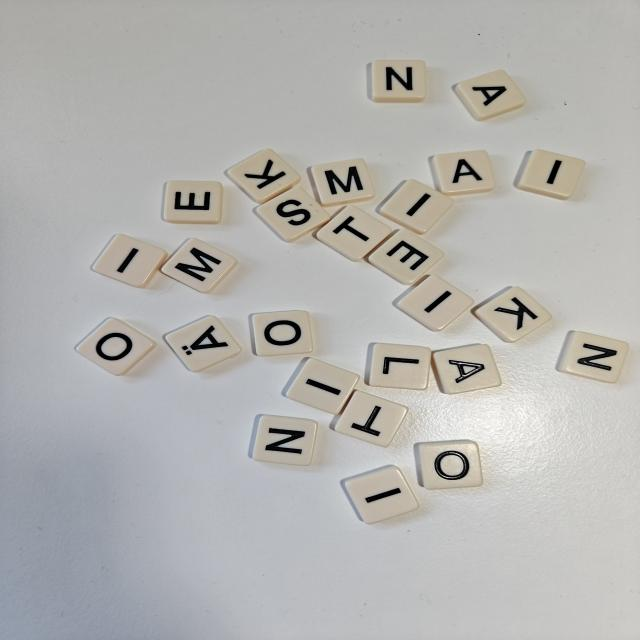a: (455, 70, 525, 120), (432, 345, 501, 395), (432, 150, 495, 196)
a_dot: (165, 316, 242, 372)
e: (368, 230, 444, 285), (164, 181, 223, 224)
i: (342, 465, 419, 524), (397, 275, 474, 331), (285, 358, 360, 414), (380, 179, 453, 234), (92, 234, 167, 287), (517, 150, 585, 199)
k: (474, 287, 551, 342), (228, 149, 300, 204)
l: (367, 343, 431, 390)
m: (161, 238, 237, 293), (311, 159, 375, 206)
n: (558, 331, 628, 383), (252, 415, 318, 466), (371, 60, 426, 102)
o: (76, 318, 156, 375), (418, 440, 483, 489), (252, 310, 313, 356)
s: (257, 187, 330, 242)
t: (334, 390, 408, 447), (316, 205, 391, 261)
